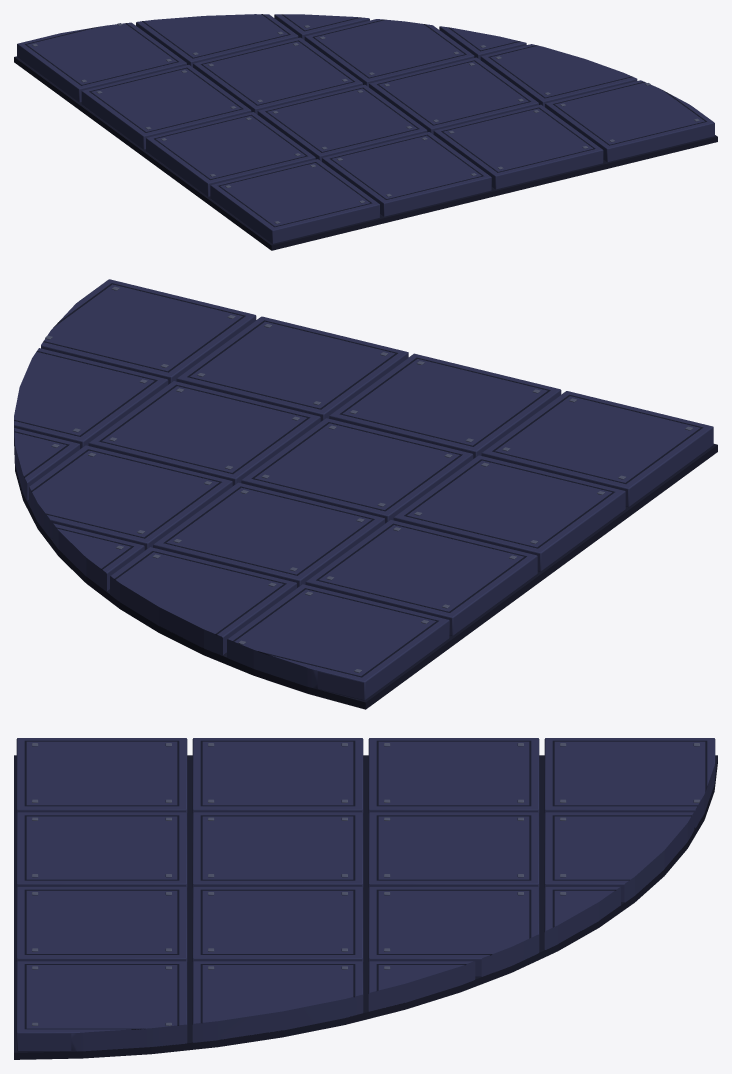
File: roof.arc4.plate.glb
3 renders of one model, top to bottom at view 1: azimuth 30°, elevation 25°; view 2: azimuth 150°, elevation 25°; view 3: azimuth 270°, elevation 25°, orthographic. The views are drawn at different scales.
Parts seen in each view (by area): view 1: GEO-roof.arc4.plate; view 2: GEO-roof.arc4.plate; view 3: GEO-roof.arc4.plate.
Boxes of the visible parts, box(x1,y1,x2,y2) form: GEO-roof.arc4.plate: box(14, 14, 717, 250); GEO-roof.arc4.plate: box(14, 279, 717, 709); GEO-roof.arc4.plate: box(14, 738, 717, 1059).
Size of the model in its own units: 4 by 0.17 by 4.
